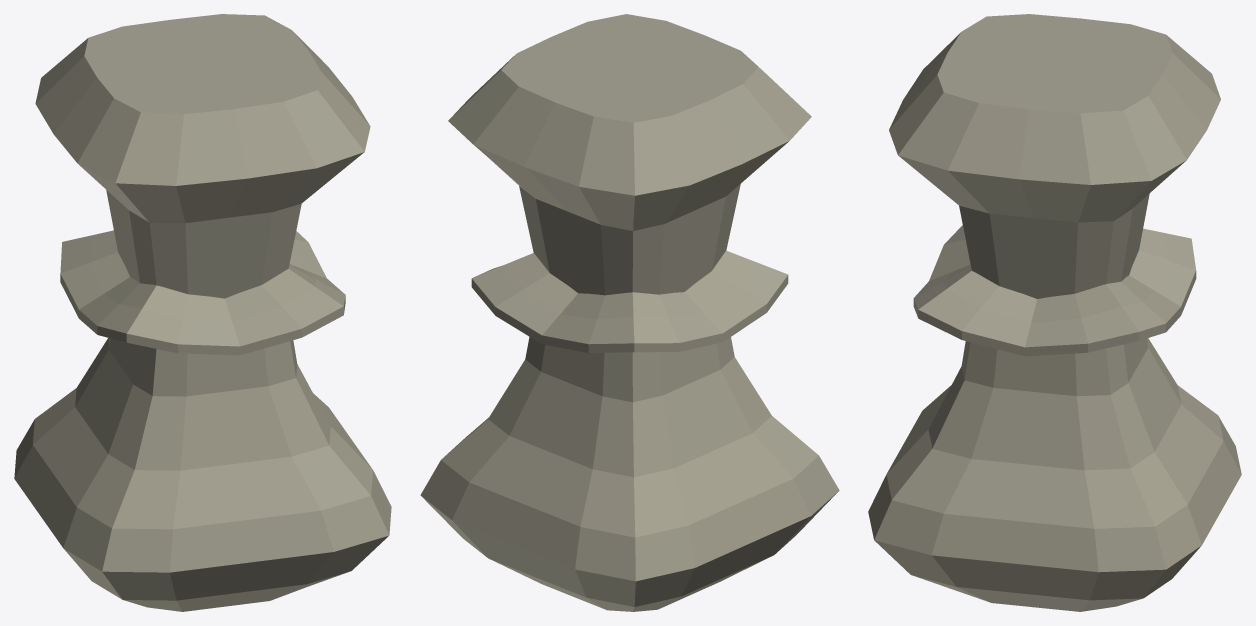
File: mushroom_harvested.gltf
3 renders of one model, left to right at view 1: azimuth 30°, elevation 25°; view 2: azimuth 150°, elevation 25°; view 3: azimuth 270°, elevation 25°, orthographic.
Visible parts, largest first — view 1: mushroom_harvested; view 2: mushroom_harvested; view 3: mushroom_harvested.
Part boxes in pixels (left/top/right/bottom): mushroom_harvested: left=14, top=14, right=391, bottom=611; mushroom_harvested: left=420, top=14, right=839, bottom=611; mushroom_harvested: left=868, top=14, right=1241, bottom=611.
Size of the model in its own units: 0.191 by 0.2947 by 0.191.
Materials: 1 (1 with a texture image).
